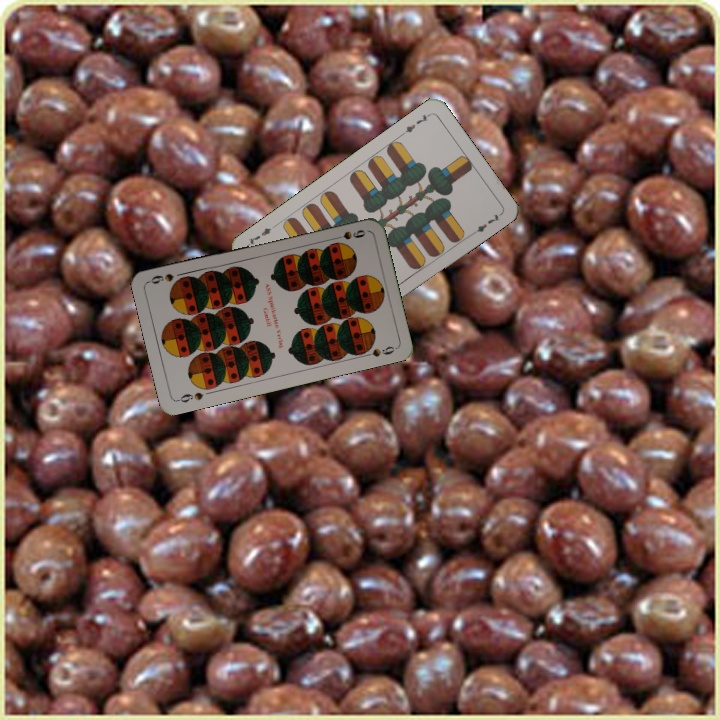E7: (397, 110, 433, 138)
S9: (329, 225, 368, 243), (173, 388, 206, 405)
